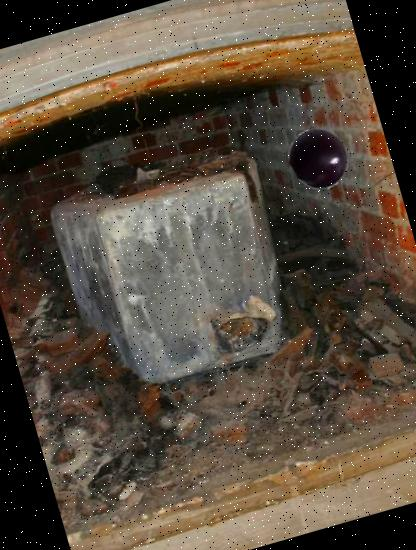Cherry: (281, 120, 358, 196)
